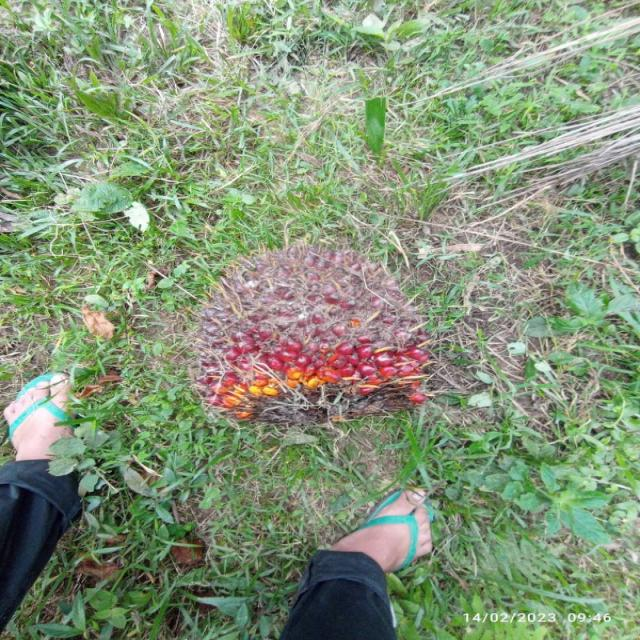fraksi 3: (130, 221, 502, 466)
